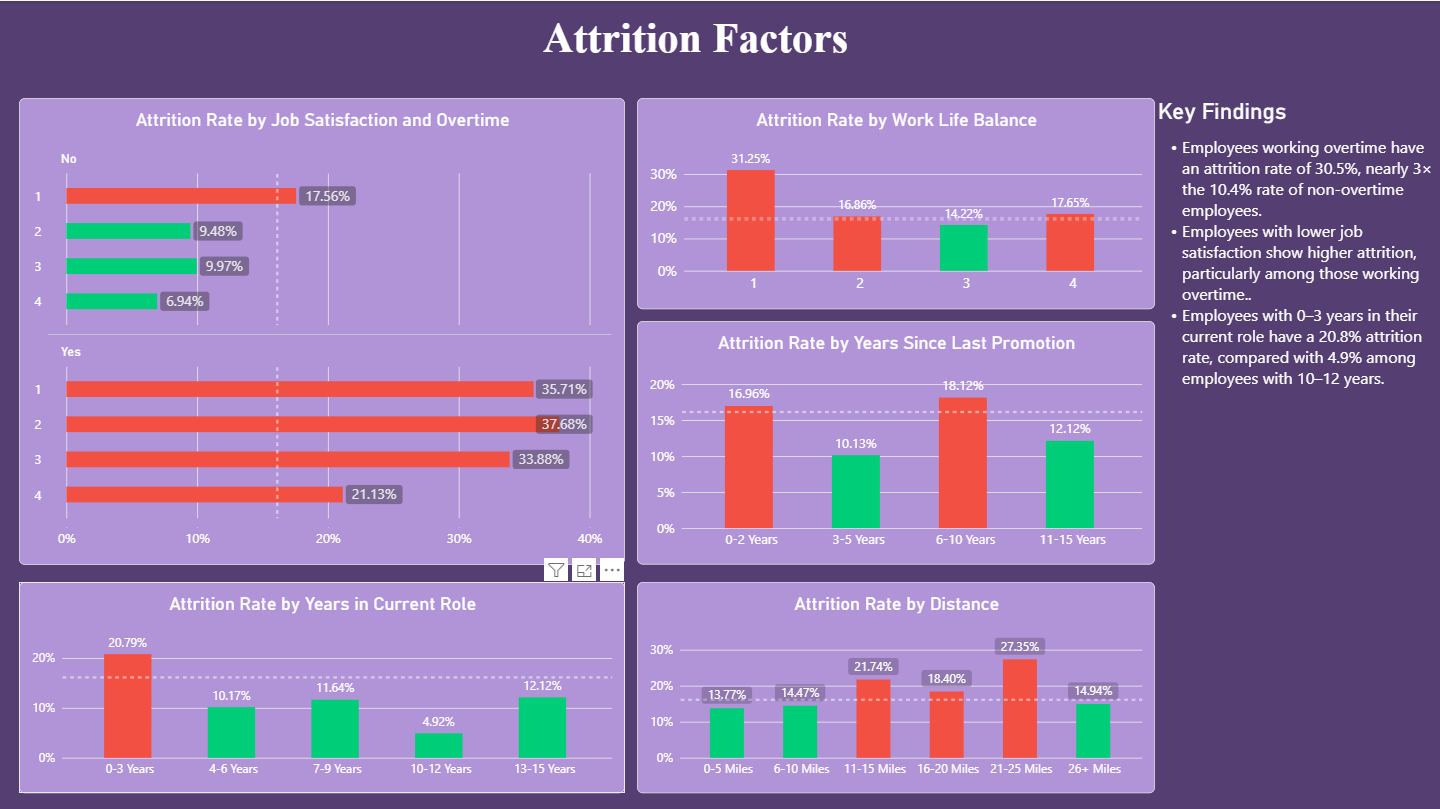

The page's visual inventory and layout, read from the dashboard file:
{"tool":"powerbi","page":{"name":"Attrition Factors","canvas":[1920,1080],"ordinal":1},"visuals":[{"type":"clusteredBarChart","title":"Attrition Rate by Job Satisfaction and Overtime","fields":{"Category":["HR-Employee-Attrition.JobSatisfaction"],"Y":["_Measure.Attrition Rate"],"Rows":["HR-Employee-Attrition.OverTime"]},"box":[27.9,129.1,805.8,620.9],"z":0},{"type":"clusteredColumnChart","title":"Attrition Rate by Distance","fields":{"Category":["HR-Employee-Attrition.Distance Group"],"Y":["_Measure.Attrition Rate"]},"box":[849.4,772.7,689,280.8],"z":1000},{"type":"clusteredColumnChart","title":"Attrition Rate by Work Life Balance","fields":{"Category":["HR-Employee-Attrition.WorkLifeBalance"],"Y":["_Measure.Attrition Rate"]},"box":[849.4,129.1,689,280.8],"z":2000},{"type":"clusteredColumnChart","title":"Attrition Rate by Years Since Last Promotion","fields":{"Category":["HR-Employee-Attrition.Years Since Last Promotion Group"],"Y":["_Measure.Attrition Rate"]},"box":[849.4,425.6,689,324.4],"z":3000},{"type":"clusteredColumnChart","title":"Attrition Rate by Years in Current Role","fields":{"Category":["HR-Employee-Attrition.Years in Current Role Group"],"Y":["_Measure.Attrition Rate"]},"box":[27.9,772.7,805.8,280.8],"z":4000},{"type":"textbox","title":"Key Findings","box":[1538.4,129.1,380.8,459.6],"z":5000},{"type":"textbox","box":[490.1,17.4,875.6,111.6],"z":5001}]}

Visuals, with their boxes in screenshot pixels (x1, y1, x2, y2), scaled from the page's 1920x1080 canvas onto the 1440x809 screenshot:
"Attrition Rate by Job Satisfaction and Overtime" clusteredBarChart: (left=21, top=97, right=625, bottom=562)
"Attrition Rate by Distance" clusteredColumnChart: (left=637, top=579, right=1154, bottom=789)
"Attrition Rate by Work Life Balance" clusteredColumnChart: (left=637, top=97, right=1154, bottom=307)
"Attrition Rate by Years Since Last Promotion" clusteredColumnChart: (left=637, top=319, right=1154, bottom=562)
"Attrition Rate by Years in Current Role" clusteredColumnChart: (left=21, top=579, right=625, bottom=789)
"Key Findings" textbox: (left=1154, top=97, right=1439, bottom=441)
textbox: (left=368, top=13, right=1024, bottom=97)
